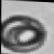correct: (0, 10, 52, 54)
